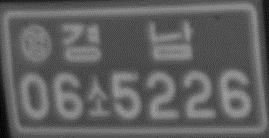0: (18, 73, 50, 120)
2: (144, 69, 180, 122), (182, 69, 217, 120)
5: (110, 69, 142, 120)
6: (218, 68, 252, 121), (52, 71, 84, 121)
경남_D: (59, 17, 196, 65)
소: (83, 73, 112, 120)
영: (19, 24, 53, 63)
